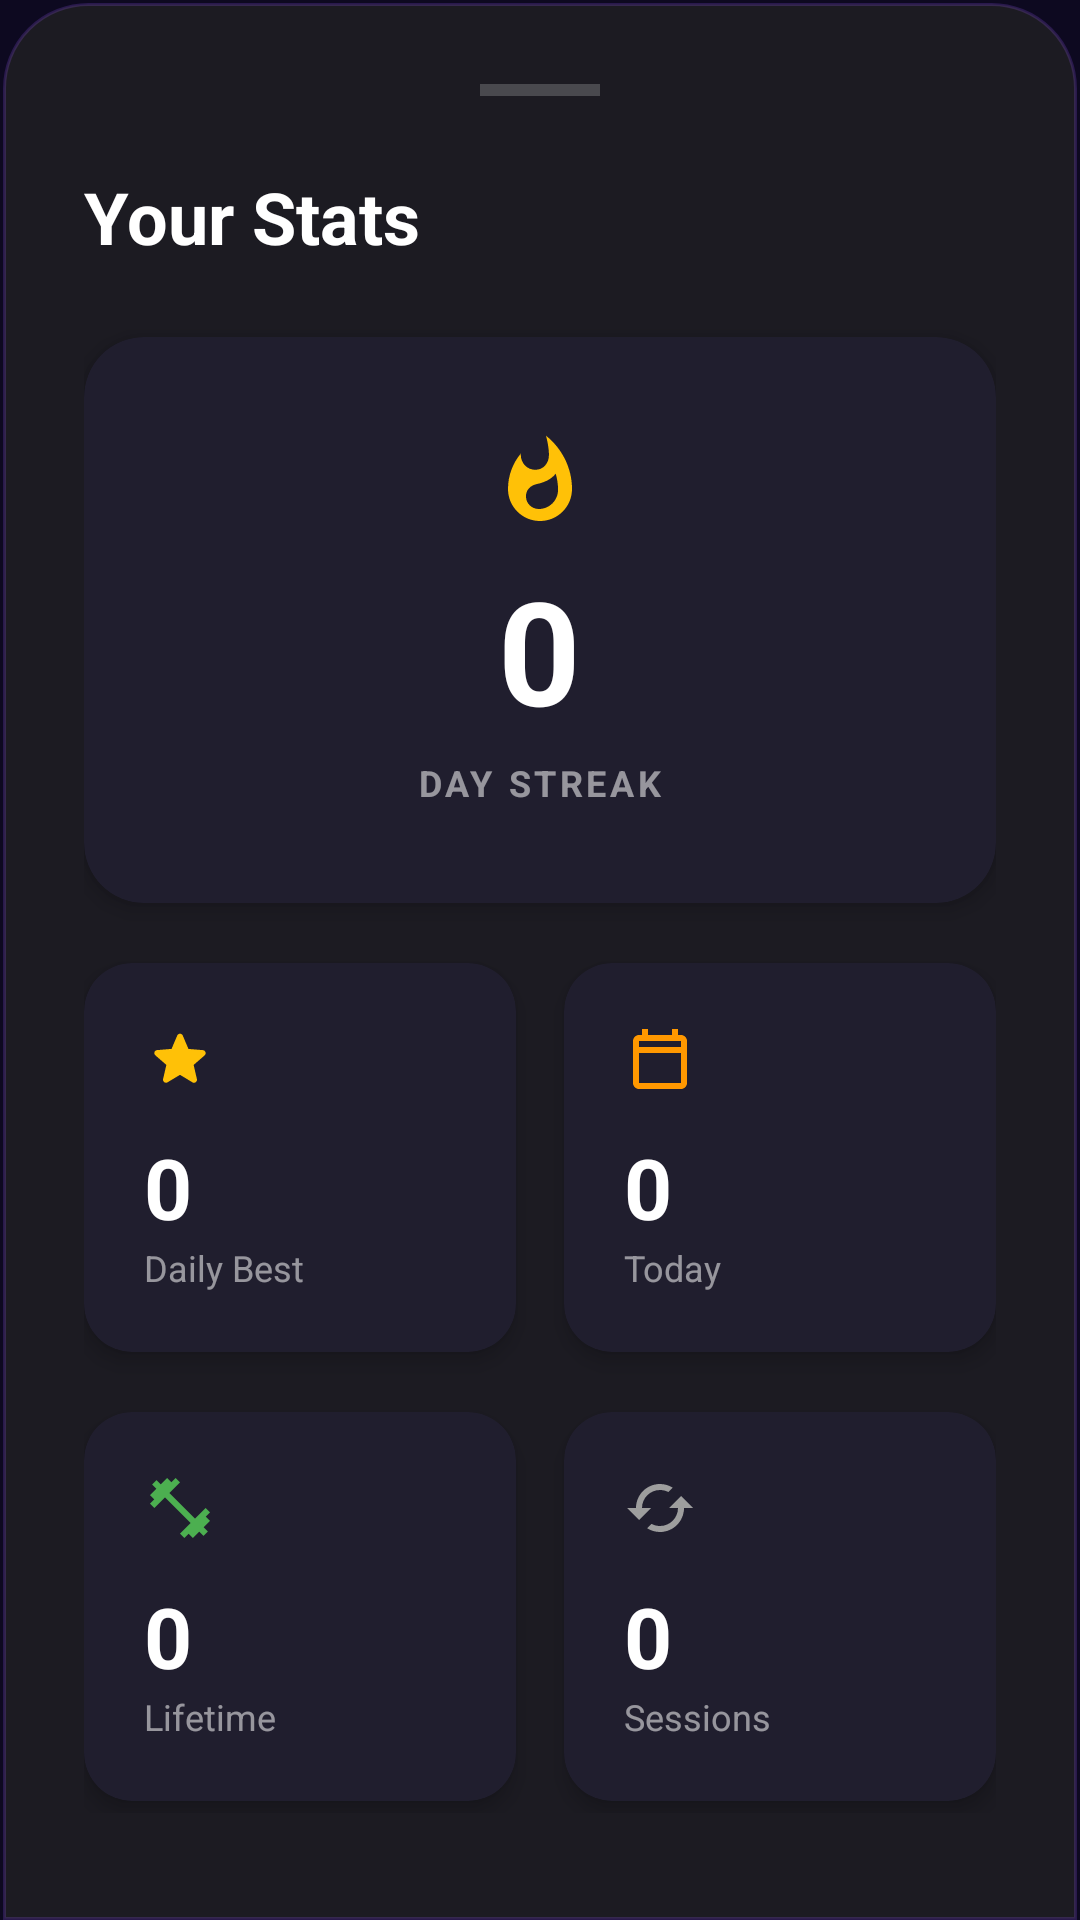

Where to tap for icons on this 1080 × 1920 app screen, as (x,y):
calendar: (660,1059)
dumbbell: (180,1508)
fire: (540,478)
star: (180,1058)
